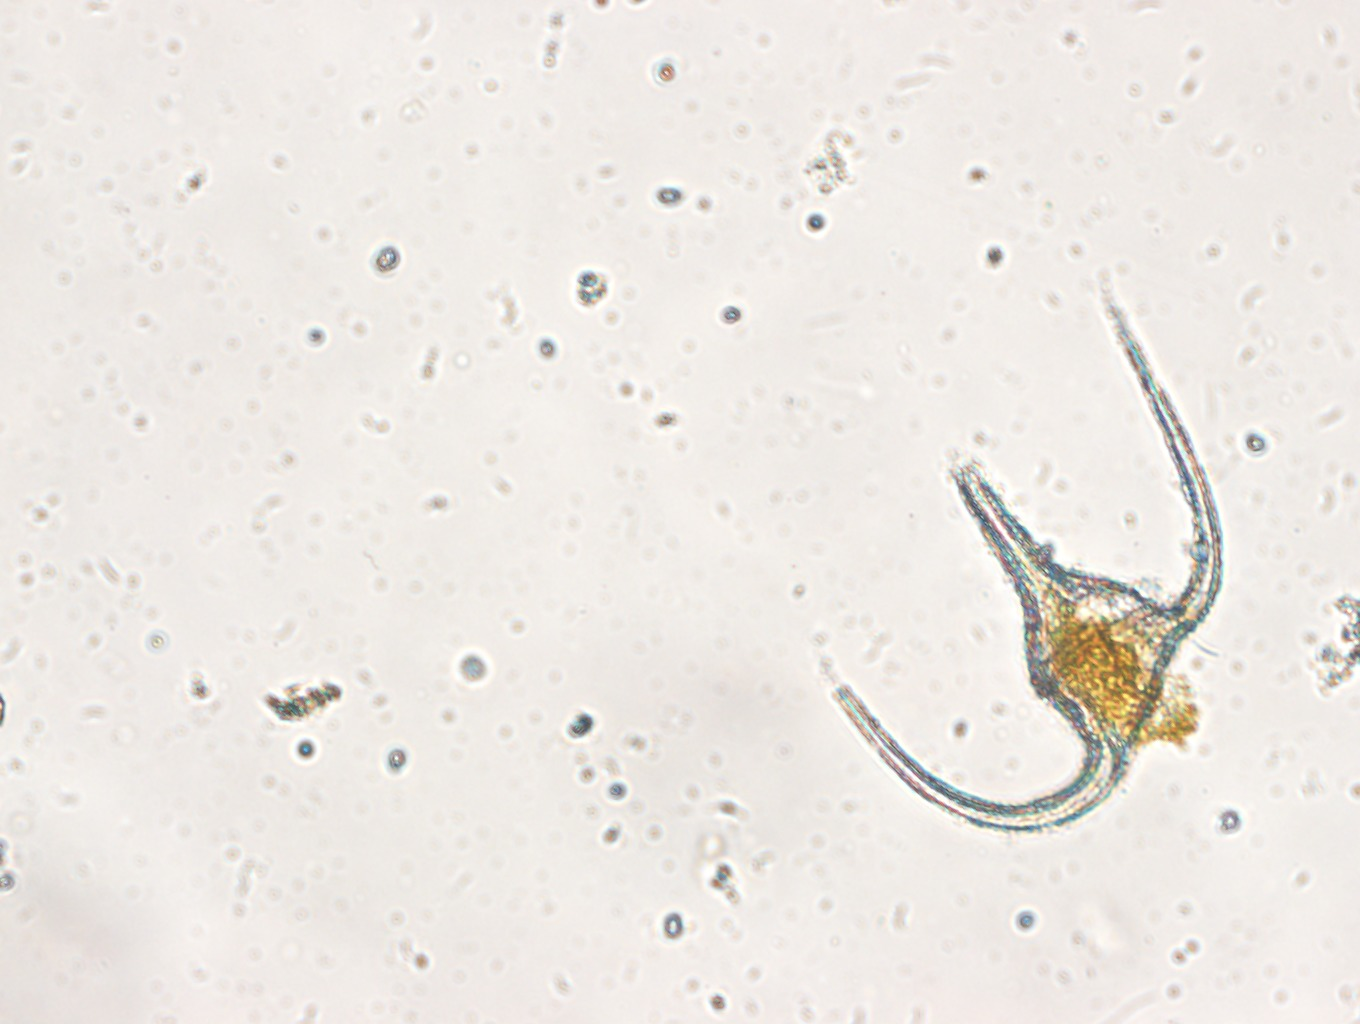ceratium trichoceros: (810, 310, 1234, 841)
